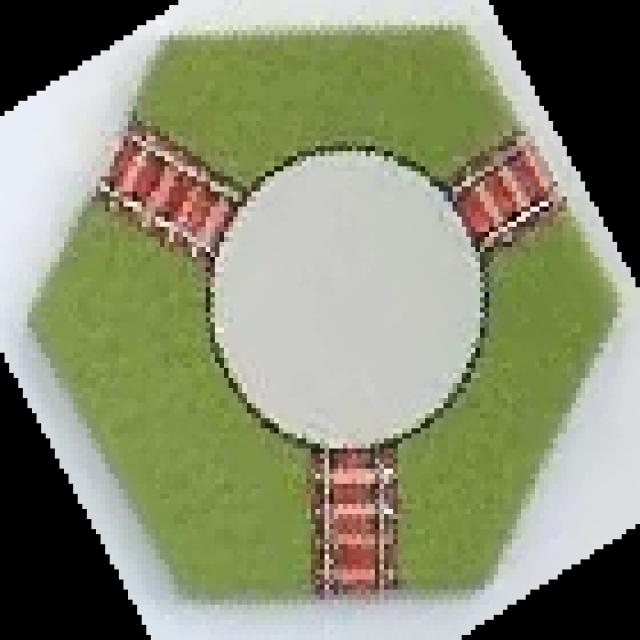11_1: (26, 22, 620, 600)
